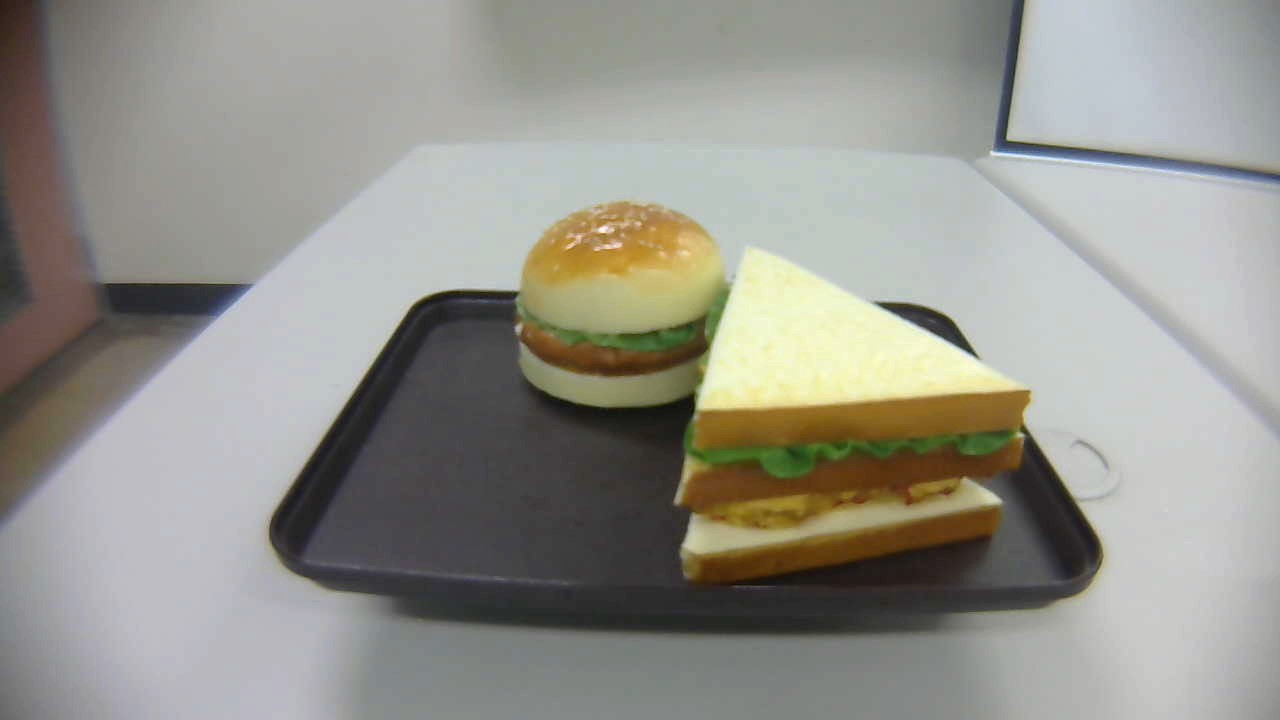hamburger: (515, 202, 732, 411)
sandwich: (673, 242, 1030, 587)
